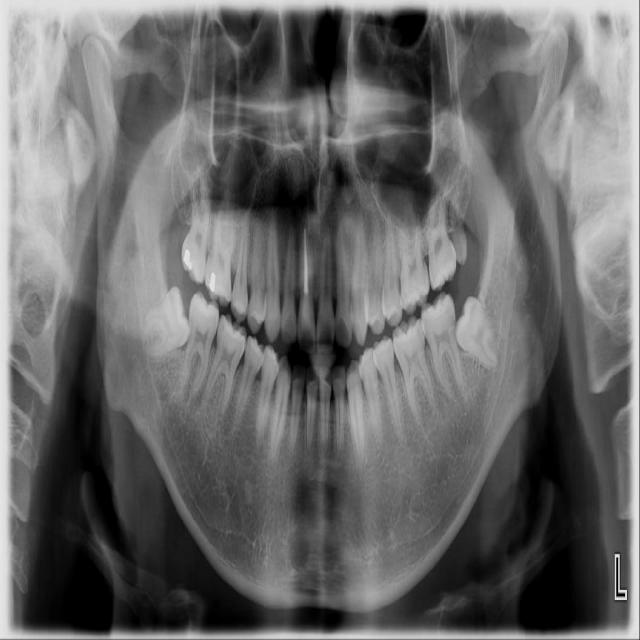Filling: (182, 247, 197, 275), (205, 270, 219, 293)
Root Canal Treatment: (306, 264, 309, 292), (305, 229, 307, 264)
impacted tooth: (139, 287, 190, 357), (454, 296, 501, 370)
